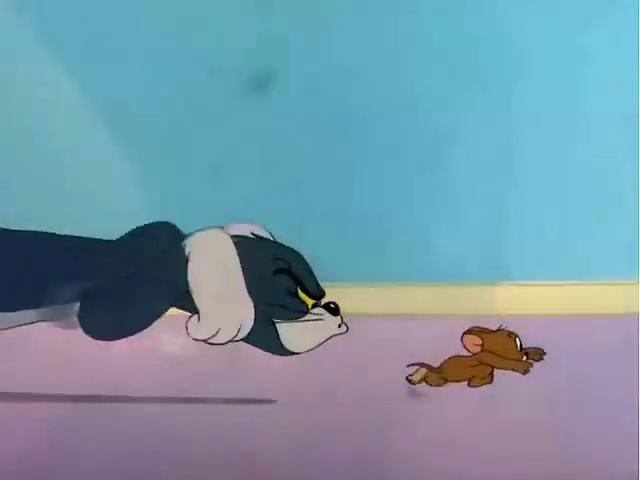jerry: (389, 288, 564, 419)
tom: (7, 202, 373, 387)
